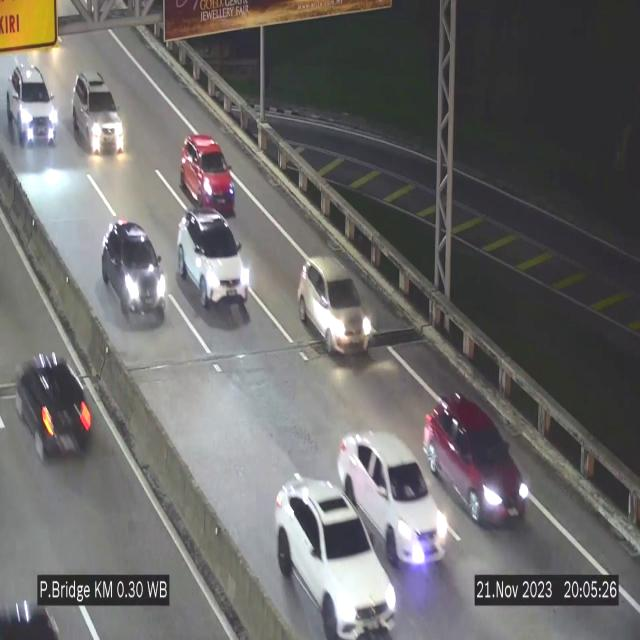Car: (276, 476, 395, 639), (423, 394, 531, 525), (336, 431, 439, 564), (297, 257, 371, 354), (177, 210, 249, 309), (102, 222, 164, 326), (180, 134, 235, 215), (72, 70, 124, 155), (7, 61, 57, 146)
